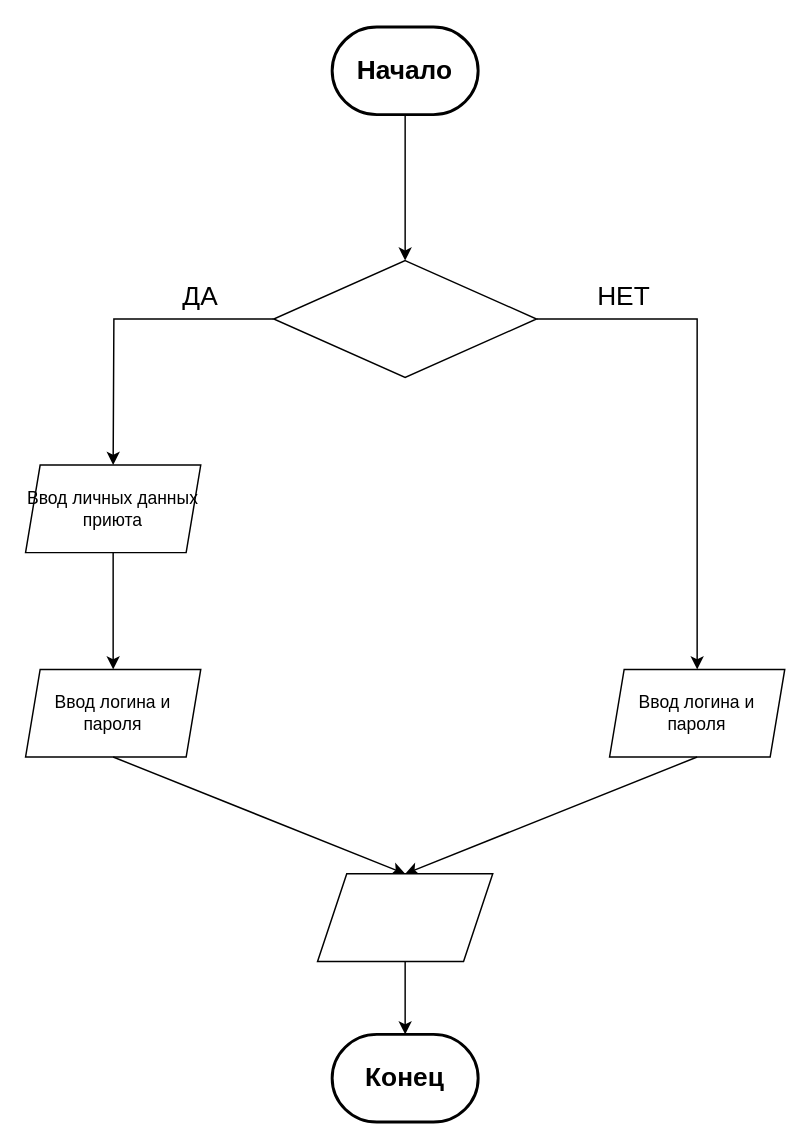
Image size: 810x1148. Some labels were removed from this diagram. The centre of each missing label's shape, as x and y in pixels:
"Вывод списка доступных действий" goes at point 404,916.
"Работник приюта?" goes at point 404,318.
